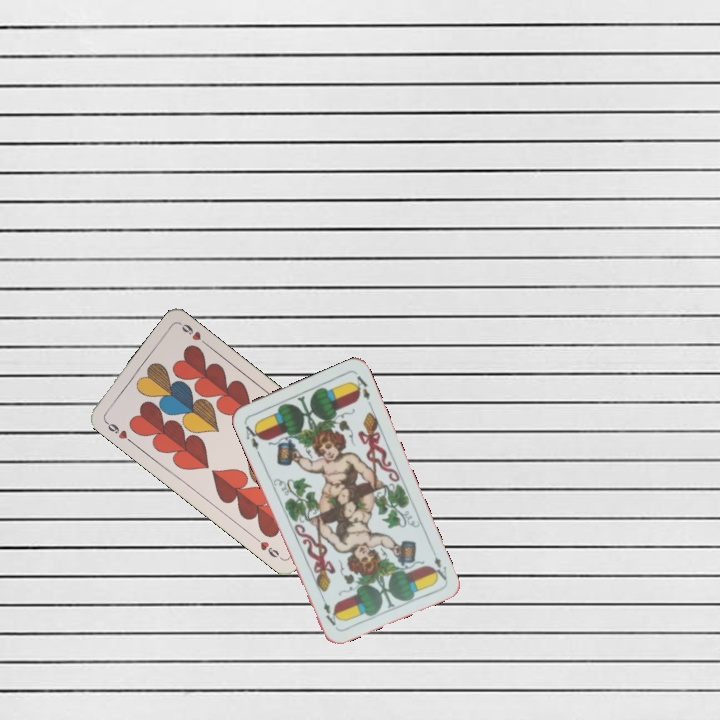EA: (240, 419, 263, 458), (427, 552, 449, 583)
H9: (101, 416, 135, 446)
